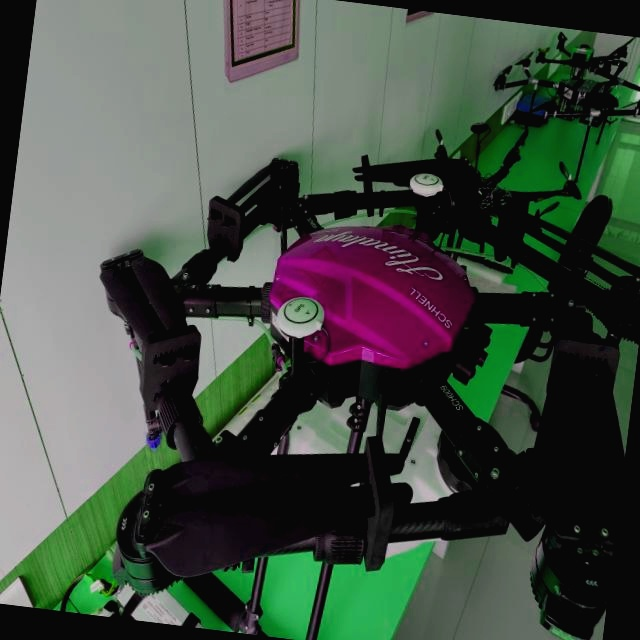agriculturedrone: (54, 122, 640, 640)
